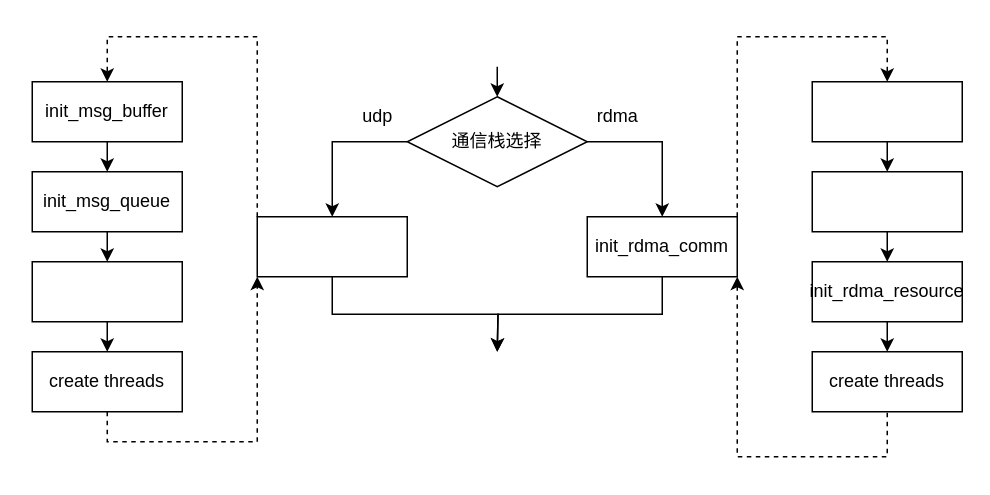
Image size: 990x495. Some labels were removed from this diagram. Here are the shapes that lost their labels. From the top down, the centre of each, then its label:
At point 886,111: "init_rdma_context".
At point 886,201: "sync_connection".
At point 331,246: "init_udp_comm".
At point 106,291: "init_comm_manager".
